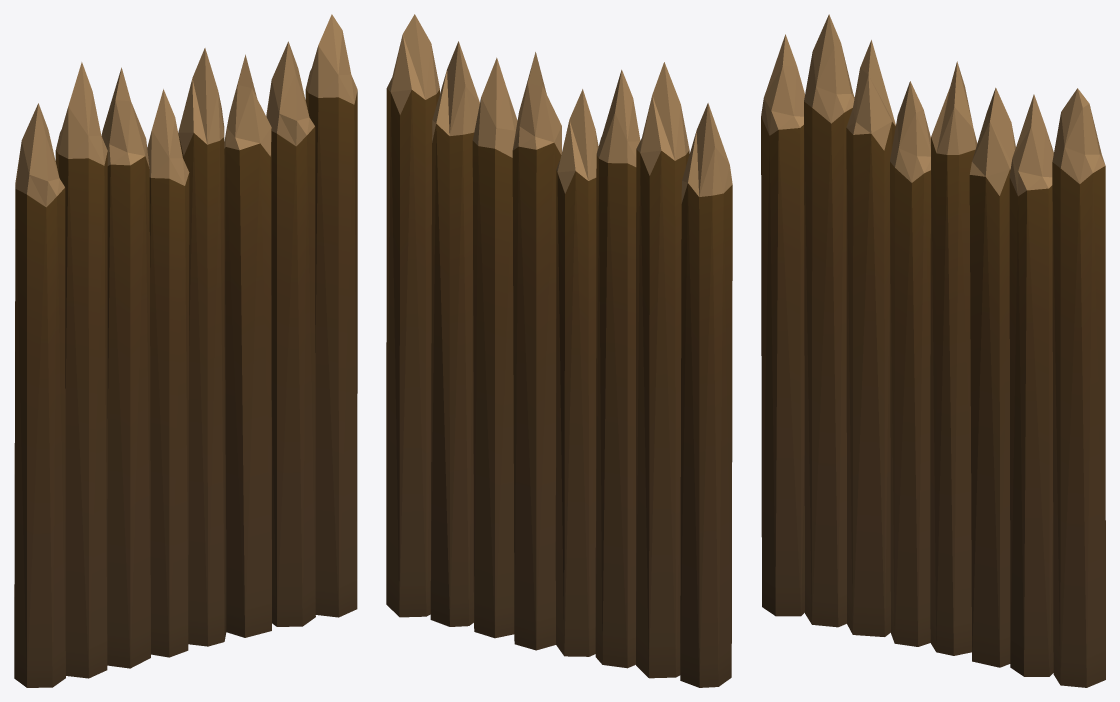
File: FenceBig_05.fbx
3 renders of one model, left to right at view 1: azimuth 30°, elevation 25°; view 2: azimuth 150°, elevation 25°; view 3: azimuth 330°, elevation 25°, orthographic.
Parts seen in each view (by area): view 1: FenceBig_05; view 2: FenceBig_05; view 3: FenceBig_05.
Part boxes in pixels (x1=…): FenceBig_05: x1=14, y1=14, x2=357, y2=687; FenceBig_05: x1=386, y1=14, x2=732, y2=687; FenceBig_05: x1=761, y1=14, x2=1105, y2=687.
Size of the model in its own units: 2.22 by 3.84 by 0.322.
